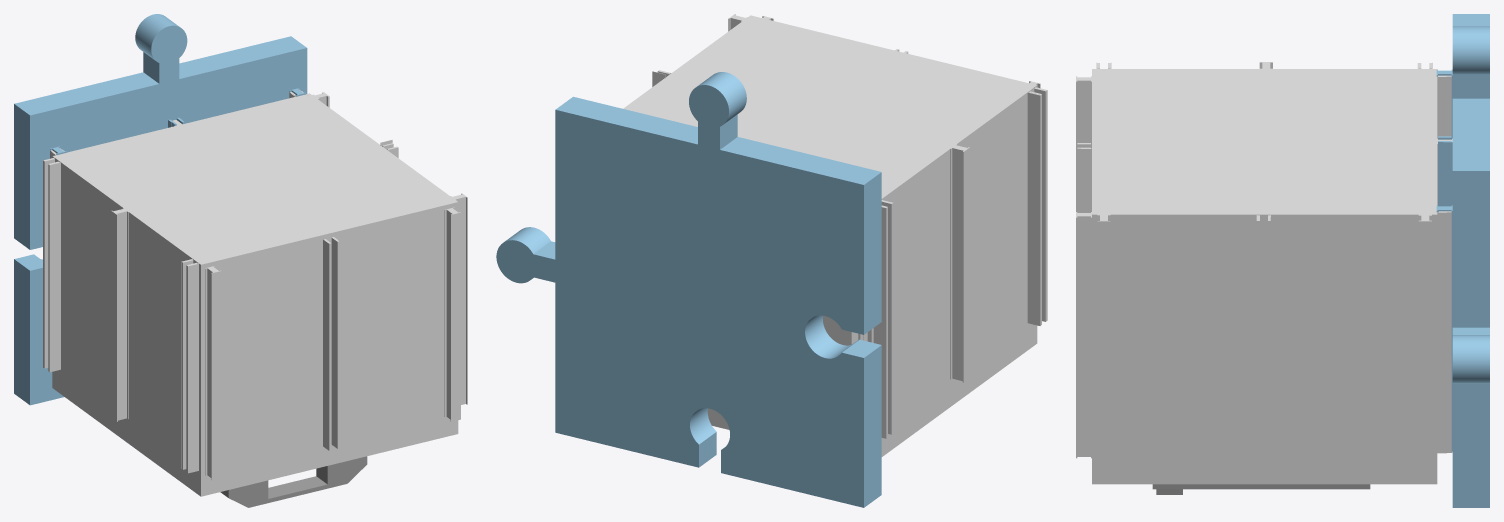
Rendered from mockup.obj.
3 renders of one model, left to right at view 1: azimuth 30°, elevation 25°; view 2: azimuth 150°, elevation 25°; view 3: azimuth 270°, elevation 25°, orthographic. The views are drawn at different scales.
Visible parts, largest first — view 1: mesh436, mesh537, mesh550, mesh304, mesh556, mesh552, mesh474, mesh285, mesh292, mesh286, mesh463, mesh290 (+16 smaller); view 2: mesh300, mesh537, mesh550, mesh569, mesh285, mesh292, mesh286, mesh546, mesh290, mesh543, mesh560, mesh288 (+6 smaller); view 3: mesh388, mesh537, mesh303, mesh298, mesh397, mesh407, mesh460, mesh290, mesh527, mesh301, mesh288, mesh16 (+12 smaller).
Boxes of the visible parts, x1,y1,x2,y2 form: mesh436: [201, 202, 458, 496]; mesh537: [53, 92, 467, 264]; mesh550: [52, 156, 200, 496]; mesh304: [30, 25, 307, 405]; mesh556: [49, 162, 60, 372]; mesh552: [188, 264, 198, 473]; mesh474: [211, 271, 221, 480]; mesh285: [14, 104, 29, 249]; mesh292: [14, 259, 29, 404]; mesh286: [14, 72, 158, 115]; mesh463: [451, 212, 460, 421]; mesh290: [179, 36, 306, 78]; mesh300: [496, 85, 863, 507]; mesh537: [623, 14, 1036, 198]; mesh550: [871, 85, 1037, 456]; mesh569: [1027, 92, 1040, 325]; mesh285: [864, 172, 881, 334]; mesh292: [864, 345, 881, 507]; mesh286: [720, 137, 881, 184]; mesh546: [952, 148, 963, 380]; mesh290: [555, 96, 697, 144]; mesh543: [963, 147, 969, 382]; mesh560: [873, 207, 886, 438]; mesh288: [697, 72, 746, 123]; mesh388: [1092, 214, 1437, 484]; mesh537: [1092, 62, 1451, 221]; mesh303: [1452, 171, 1489, 327]; mesh298: [1452, 383, 1489, 507]; mesh397: [1097, 221, 1110, 461]; mesh407: [1418, 221, 1431, 461]; mesh460: [1077, 216, 1090, 456]; mesh290: [1452, 98, 1489, 170]; mesh527: [1437, 212, 1446, 453]; mesh301: [1452, 335, 1489, 383]; mesh288: [1452, 26, 1489, 74]; mesh16: [1152, 484, 1370, 489].
Size of the model in its own units: 0.2117 by 0.231 by 0.1979.
